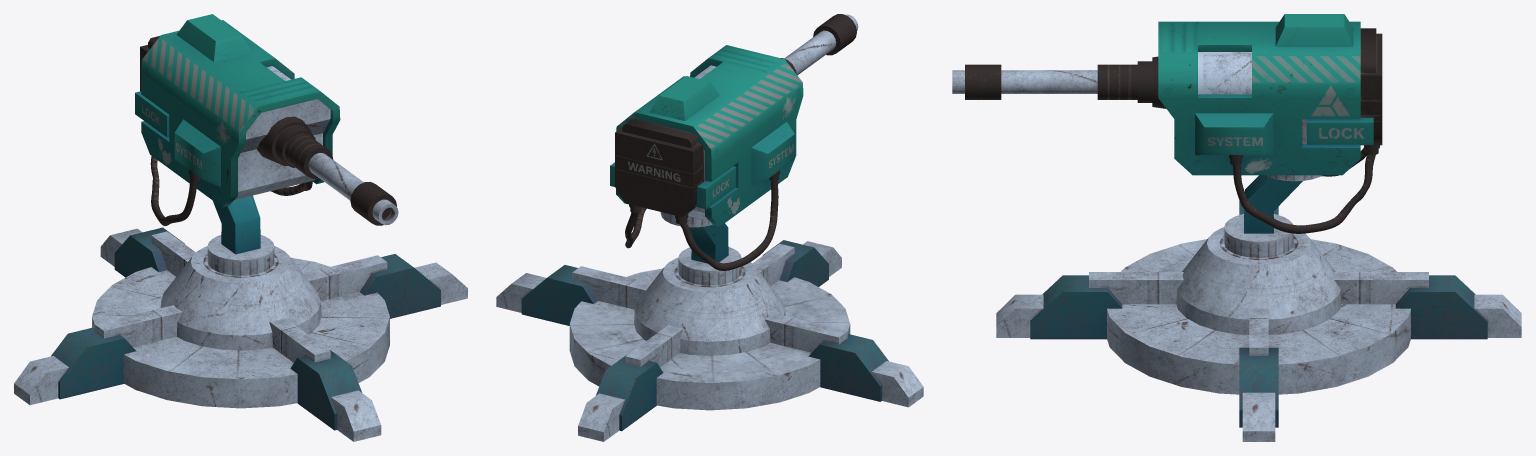
The picture shows the model from 3 angles, left to right: view 1: azimuth 30°, elevation 25°; view 2: azimuth 150°, elevation 25°; view 3: azimuth 270°, elevation 25°; orthographic projection. The views are drawn at different scales.
Parts seen in each view (by area): view 1: Legs_low, Platform_low, Frame2_low, Platform3_low, Doulo_low, Frame1_low, Detail2_low, Detail1_low, Leg_low, Platform1_low, Wire_low; view 2: Legs_low, Platform_low, Frame2_low, Platform3_low, Frame3_low, Detail2_low, Doulo_low, Detail1_low, Wire_low, Platform1_low, Leg_low; view 3: Legs_low, Frame2_low, Platform_low, Platform3_low, Doulo_low, Detail2_low, Detail1_low, Frame3_low, Frame4_low, Platform1_low, Wire_low, Leg_low.
Boxes of the visible parts, box(x1,y1,x2,y2) form: Legs_low: box(14, 227, 467, 441); Platform_low: box(92, 257, 389, 408); Frame2_low: box(141, 20, 340, 207); Platform3_low: box(160, 246, 321, 350); Doulo_low: box(257, 116, 398, 225); Frame1_low: box(235, 99, 330, 199); Detail2_low: box(135, 91, 220, 186); Detail1_low: box(176, 14, 251, 61); Leg_low: box(213, 195, 260, 254); Platform1_low: box(207, 235, 274, 275); Wire_low: box(150, 156, 312, 225); Legs_low: box(496, 240, 923, 441); Platform_low: box(569, 268, 850, 410); Frame2_low: box(616, 45, 803, 226); Platform3_low: box(634, 257, 785, 355); Frame3_low: box(615, 119, 704, 217); Detail2_low: box(610, 122, 794, 209); Doulo_low: box(780, 14, 858, 75); Detail1_low: box(649, 76, 720, 120); Wire_low: box(625, 180, 778, 270); Platform1_low: box(678, 247, 741, 285); Leg_low: box(689, 223, 728, 263); Legs_low: box(996, 201, 1521, 441); Frame2_low: box(1158, 21, 1360, 175); Platform_low: box(1107, 239, 1410, 394); Platform3_low: box(1176, 227, 1341, 334); Doulo_low: box(952, 56, 1166, 108); Detail2_low: box(1195, 113, 1373, 155); Detail1_low: box(1275, 14, 1353, 46); Frame3_low: box(1360, 28, 1382, 145); Frame4_low: box(1198, 52, 1251, 94); Platform1_low: box(1224, 214, 1293, 257); Wire_low: box(1232, 147, 1375, 233); Leg_low: box(1244, 175, 1302, 233).
Bounding box in the file's own units: 6.51 × 4.24 × 7.05.
Materials: 1 (1 with a texture image).
